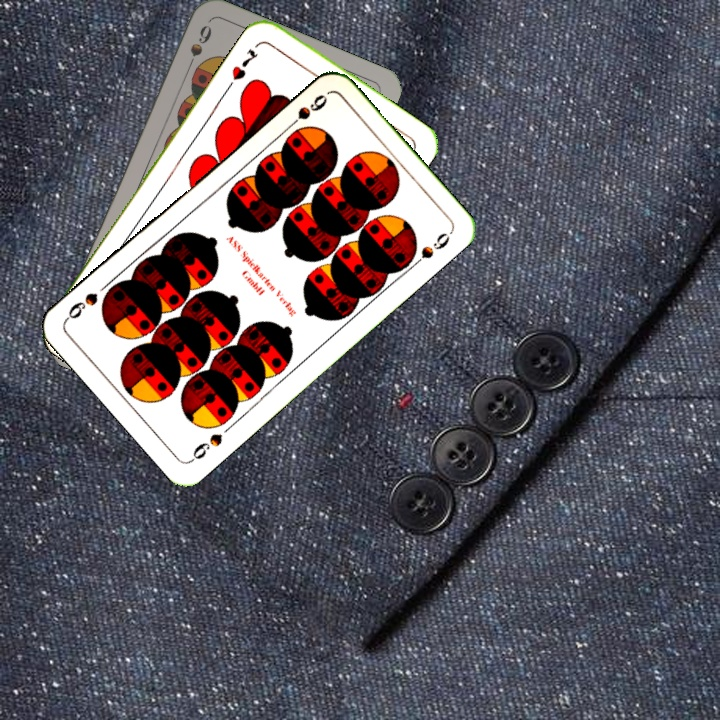H7: (227, 45, 262, 84)
S9: (281, 90, 330, 134), (181, 20, 215, 76), (186, 429, 225, 465)
